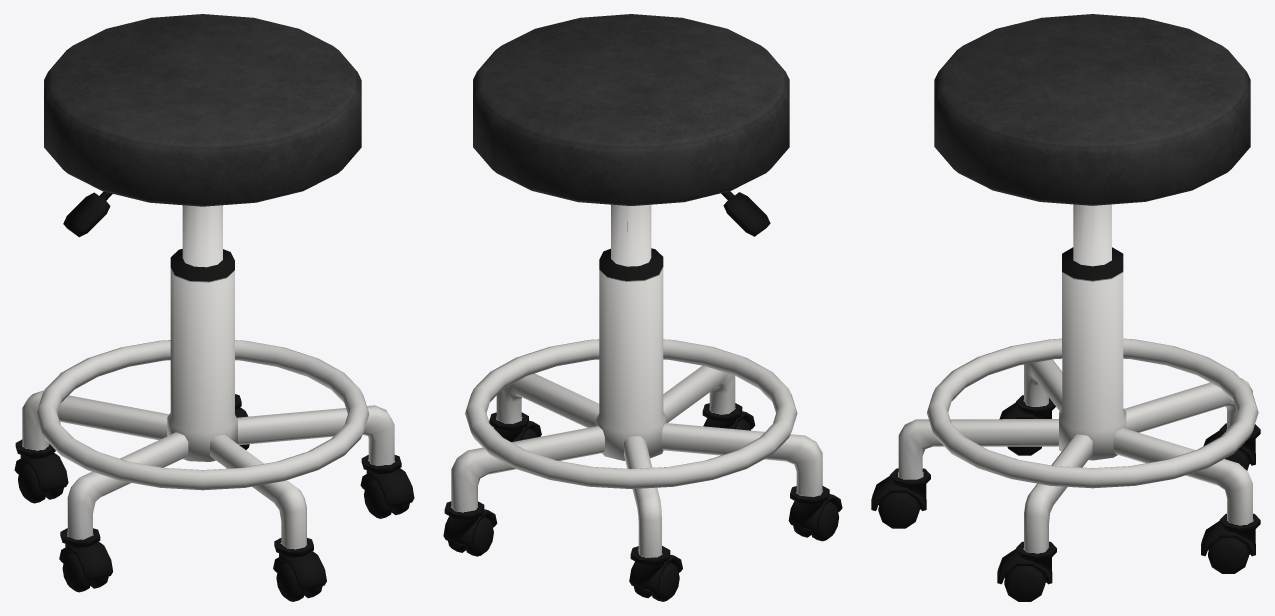
File: doctor_chair.glb
3 views of the same model, side by side, from view 1: azimuth 30°, elevation 25°; view 2: azimuth 150°, elevation 25°; view 3: azimuth 270°, elevation 25° (orthographic).
Visible parts, largest first — view 1: uploads_files_3691978_doctorChair_uv; view 2: uploads_files_3691978_doctorChair_uv; view 3: uploads_files_3691978_doctorChair_uv.
Boxes of the visible parts, box(x1,y1,x2,y2) form: uploads_files_3691978_doctorChair_uv: box(14, 14, 414, 601); uploads_files_3691978_doctorChair_uv: box(443, 14, 842, 601); uploads_files_3691978_doctorChair_uv: box(871, 14, 1260, 601).
Size of the model in its own units: 36.19 by 46.03 by 36.36.
Materials: 1 (1 with a texture image).
